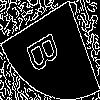B: (25, 25, 67, 76)
